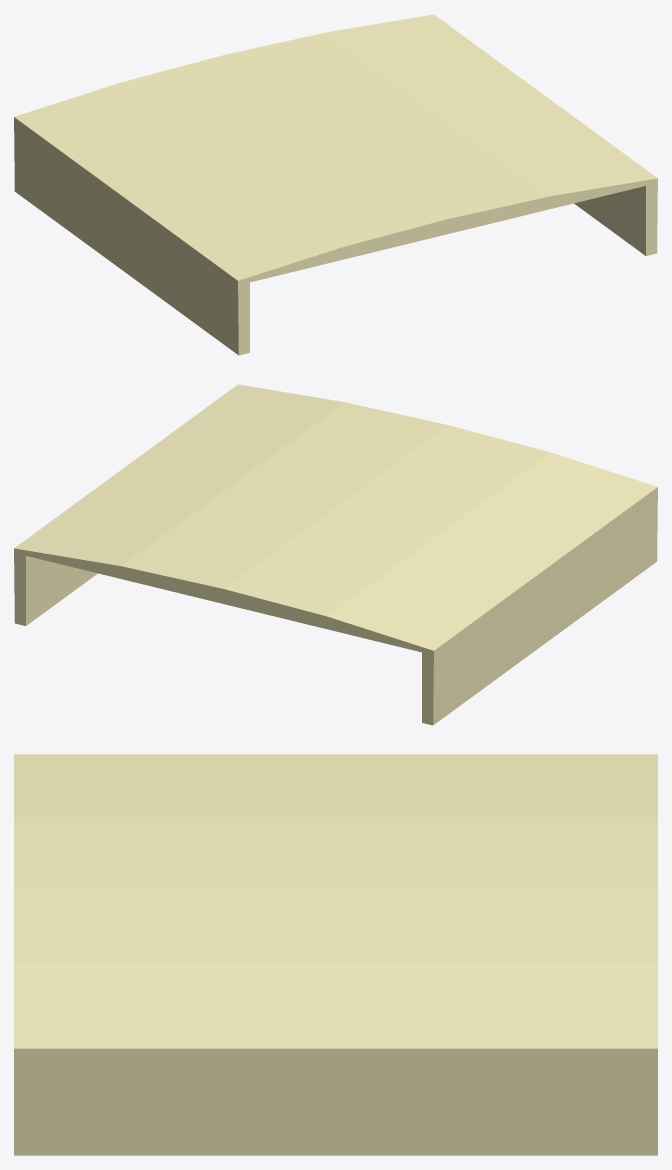
Rendered from Itr_Bed_Double_Blanket_02.FBX.
3 views of the same model, one above another, from view 1: azimuth 30°, elevation 25°; view 2: azimuth 150°, elevation 25°; view 3: azimuth 270°, elevation 25° (orthographic). The views are drawn at different scales.
Parts seen in each view (by area): view 1: Itr_Bed_Double_Blanket_02; view 2: Itr_Bed_Double_Blanket_02; view 3: Itr_Bed_Double_Blanket_02.
Boxes of the visible parts, x1=… form: Itr_Bed_Double_Blanket_02: x1=14, y1=14, x2=657, y2=355; Itr_Bed_Double_Blanket_02: x1=14, y1=384, x2=657, y2=725; Itr_Bed_Double_Blanket_02: x1=14, y1=754, x2=657, y2=1155.
Size of the model in its own units: 70.21 by 13.65 by 64.86.
